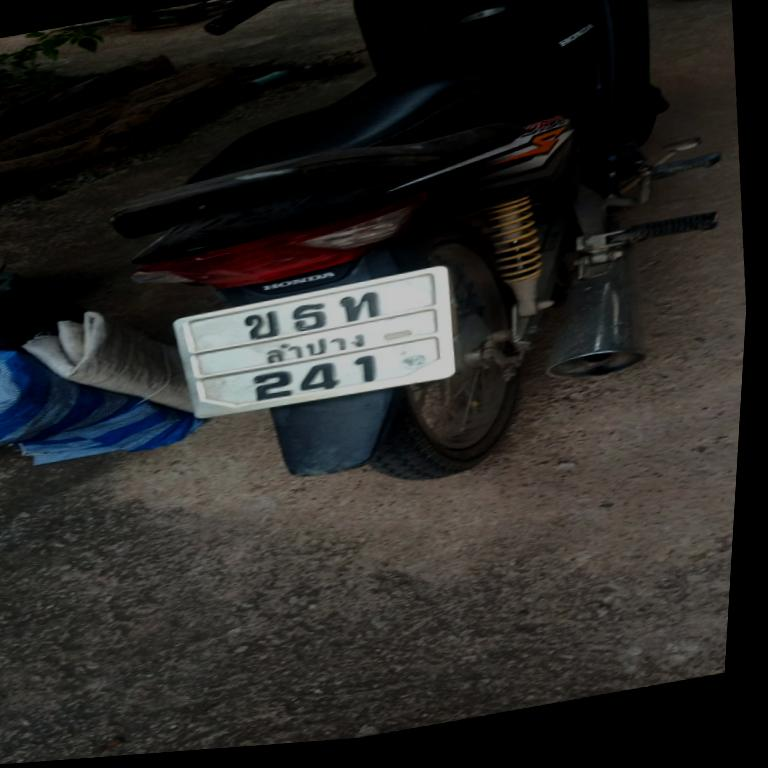license plate: (165, 261, 469, 430)
